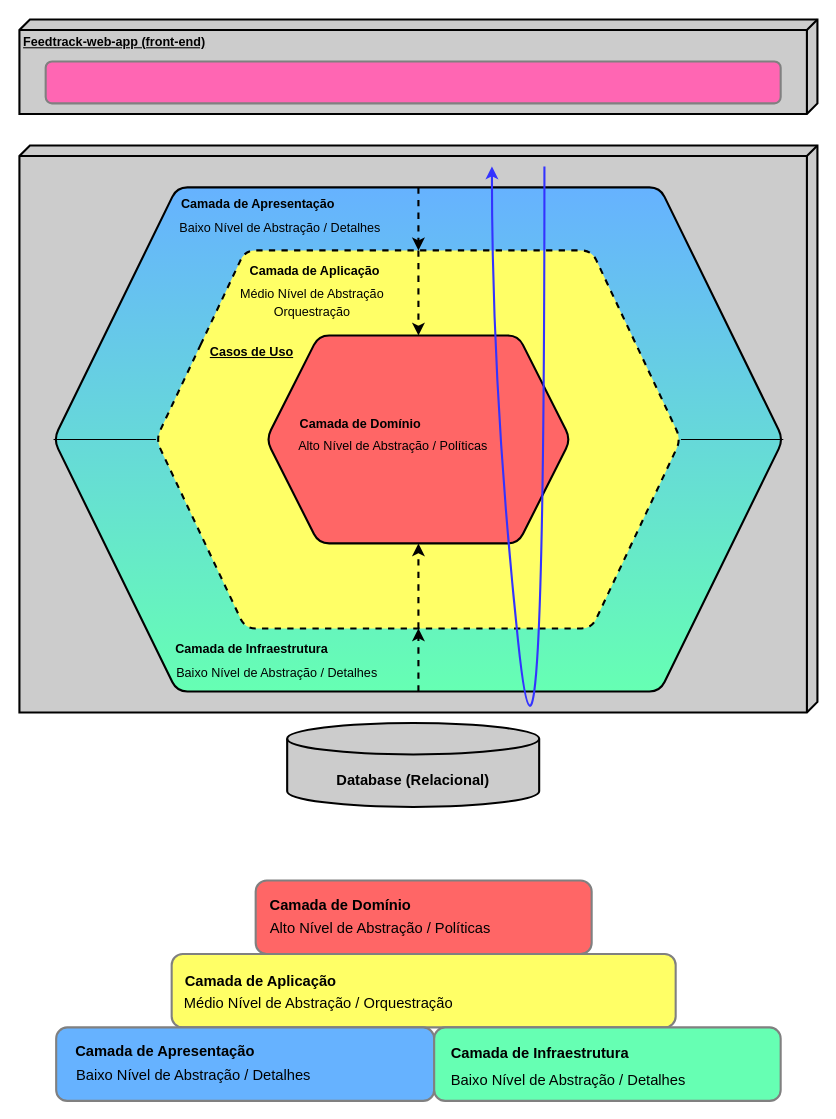
This 836x1119 diagram has some shape labels left out. Here are the shapes that lost their labels. From the top down, the box of each, then its label:
(44, 60, 781, 104): Interface de Usuário
(18, 144, 818, 713): Feedtrack-node-api (back-end)
